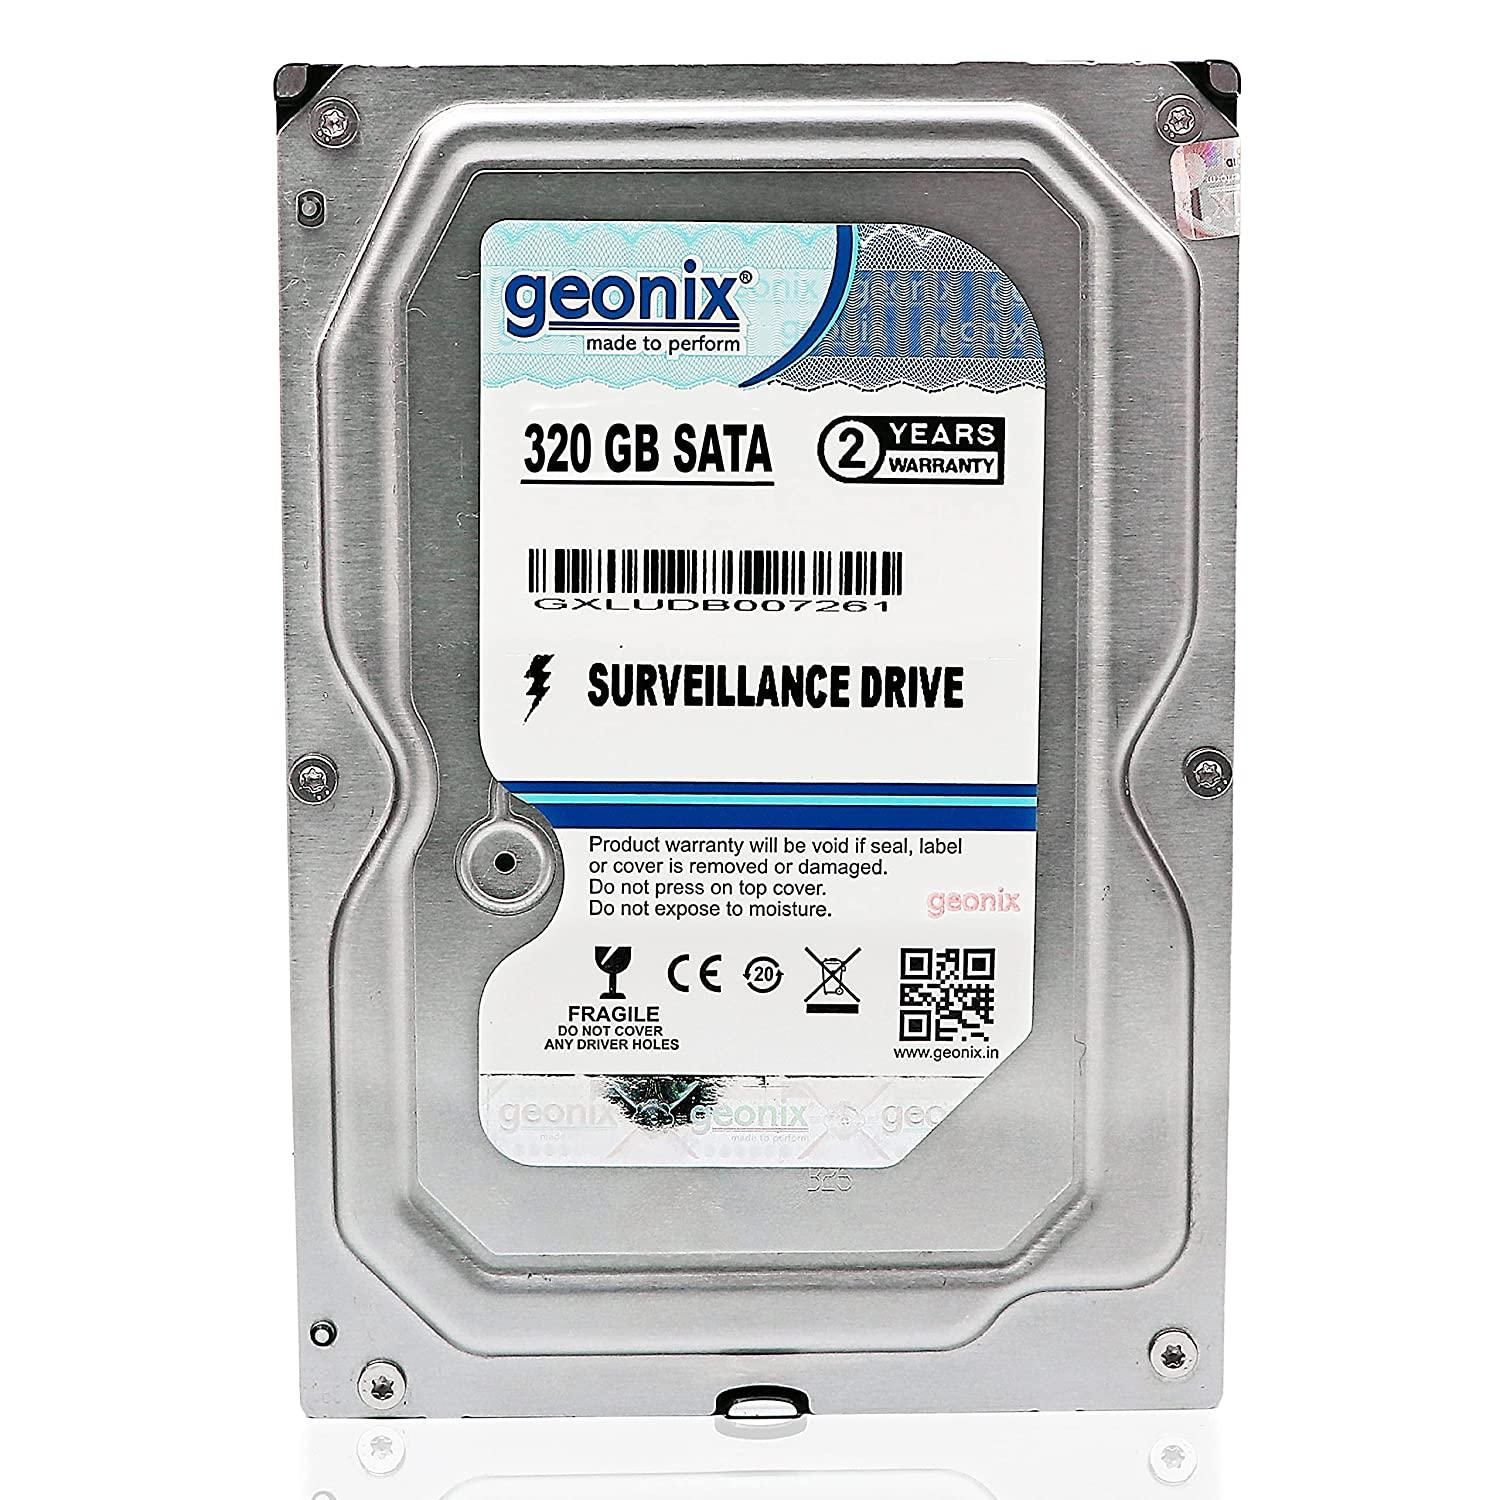internal HDD: (276, 58, 1247, 1500)
